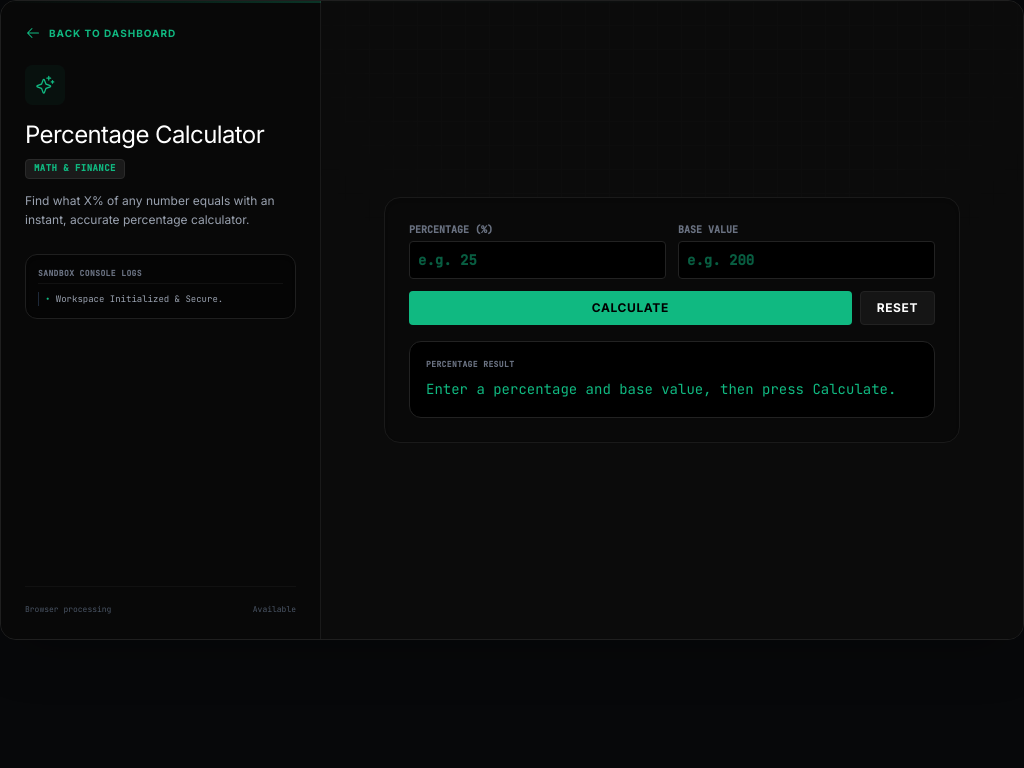
Test: P1-B3 calculator workspaces (GenericUtilityWorkspace) › percent-calc computes "what is X% of Y" with stripped decimals
Type "25" into the number field labelled "Percentage (%)" at (538, 260), box [409,241,666,279]
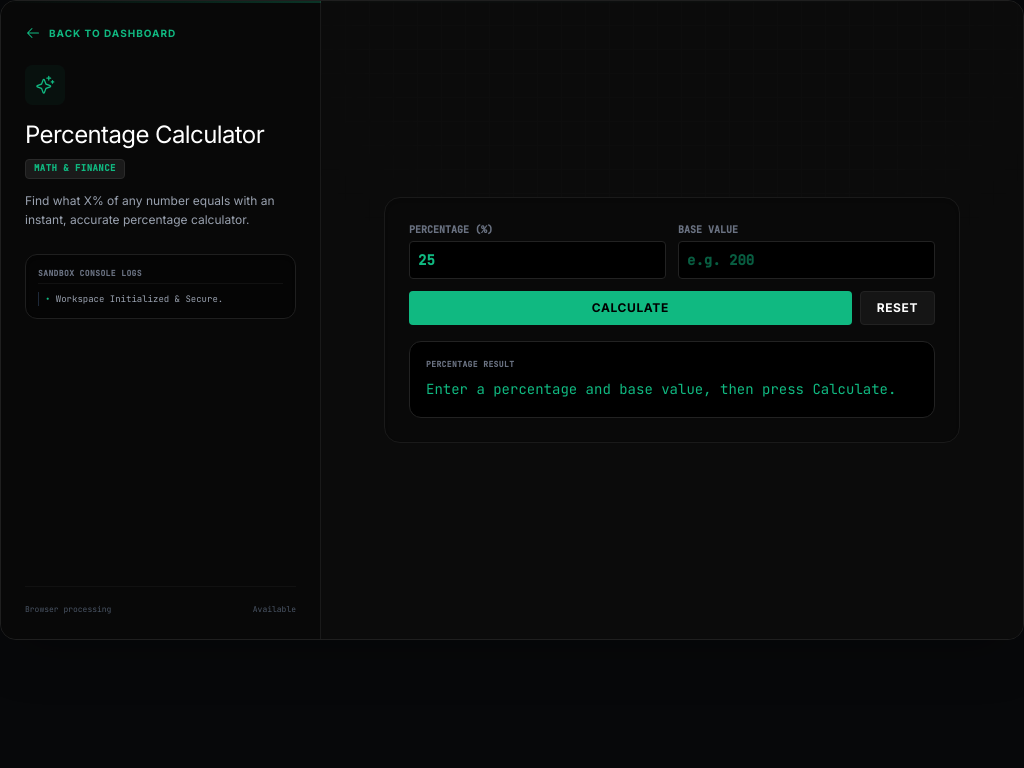
Type "200" into the number field labelled "Base value" at (806, 260), box [678,241,935,279]
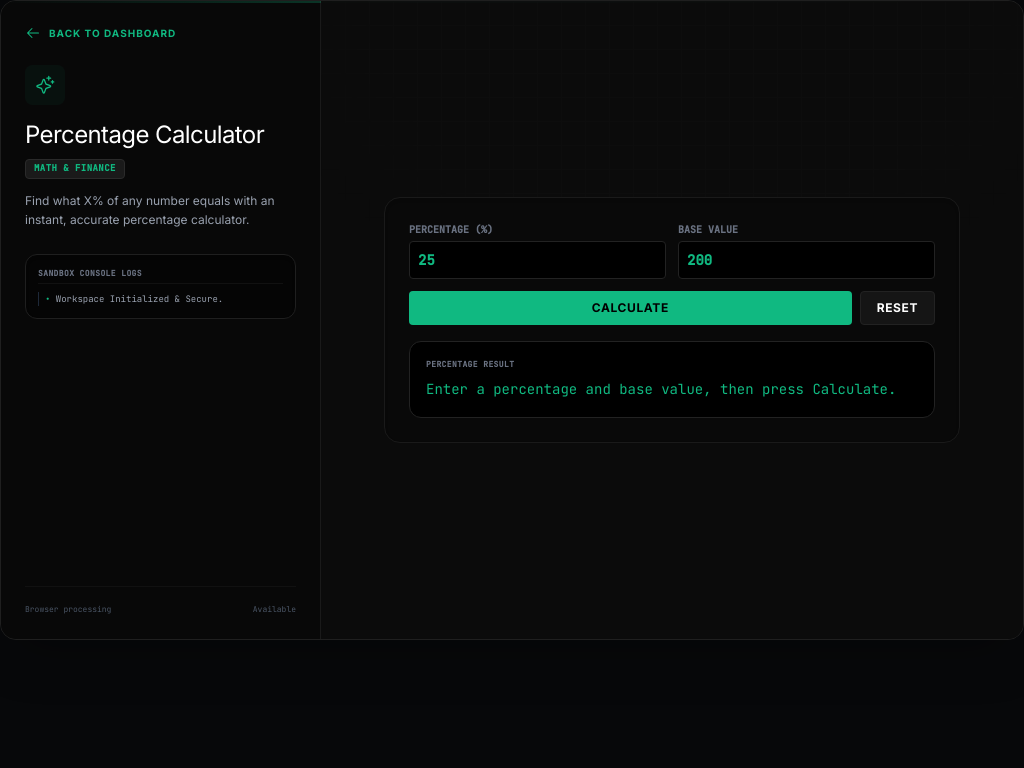
Click the button "Calculate" at (630, 308), box [409,291,852,325]
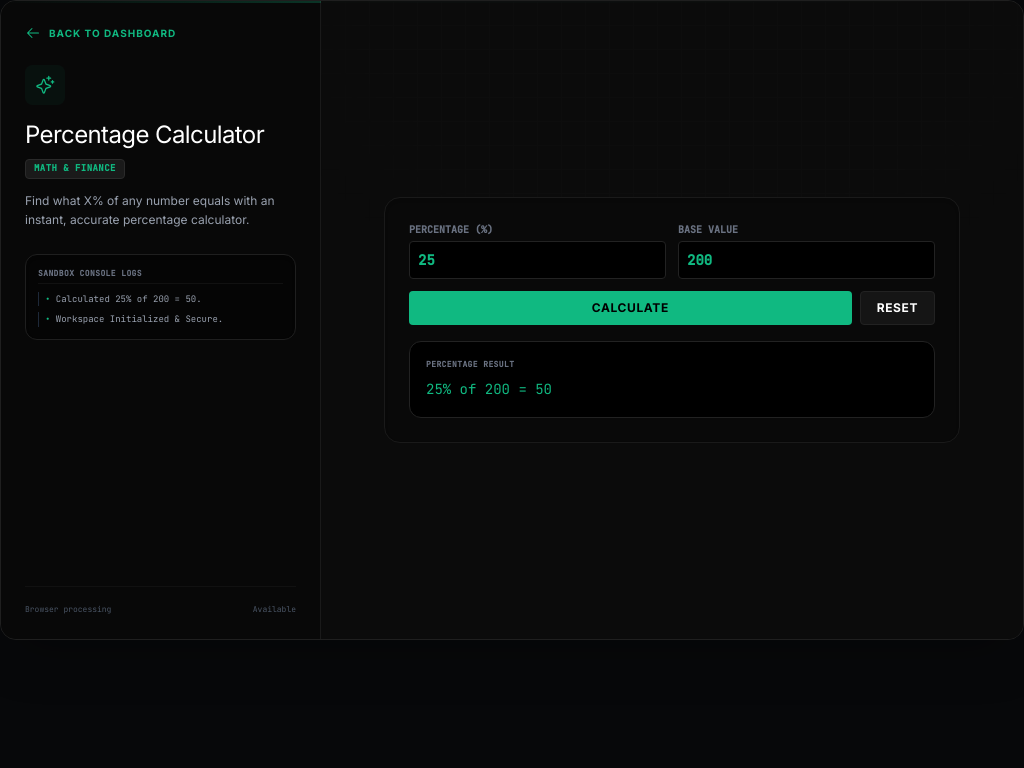
Check: the text "25% of 200 = 50" is shown, box [426,380,552,398]
